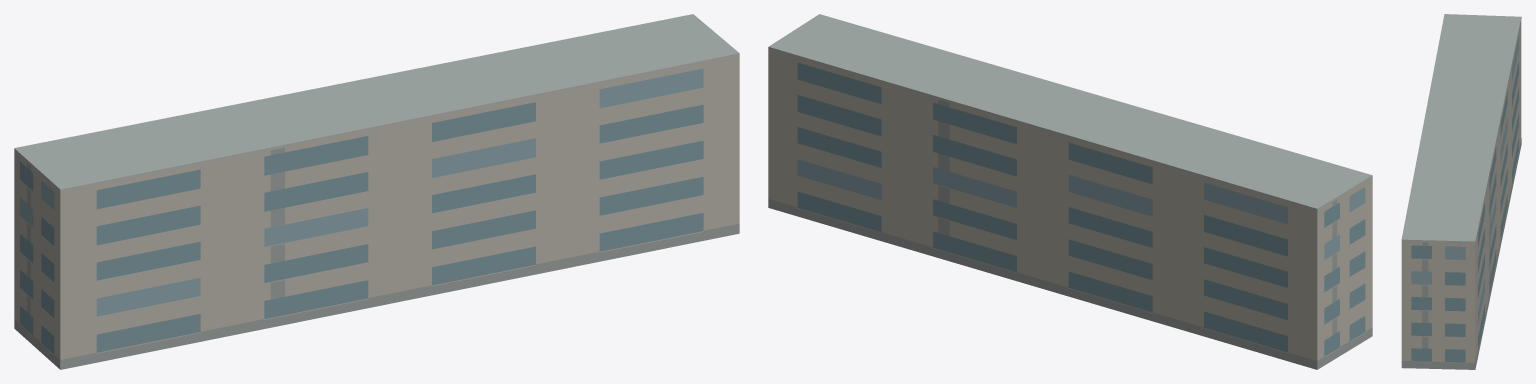
The model's file is survey-upis-32969449.glb.
3 renders of one model, left to right at view 1: azimuth 30°, elevation 25°; view 2: azimuth 150°, elevation 25°; view 3: azimuth 270°, elevation 25°, orthographic. The views are drawn at different scales.
Parts seen in each view (by area): view 1: survey-upis-32969449.tmp; view 2: survey-upis-32969449.tmp; view 3: survey-upis-32969449.tmp.
Boxes of the visible parts, left/top/right/bottom form: survey-upis-32969449.tmp: left=14, top=14, right=739, bottom=369; survey-upis-32969449.tmp: left=768, top=14, right=1372, bottom=369; survey-upis-32969449.tmp: left=1401, top=14, right=1521, bottom=369.
Size of the model in its own units: 57.93 by 15.25 by 12.91.
